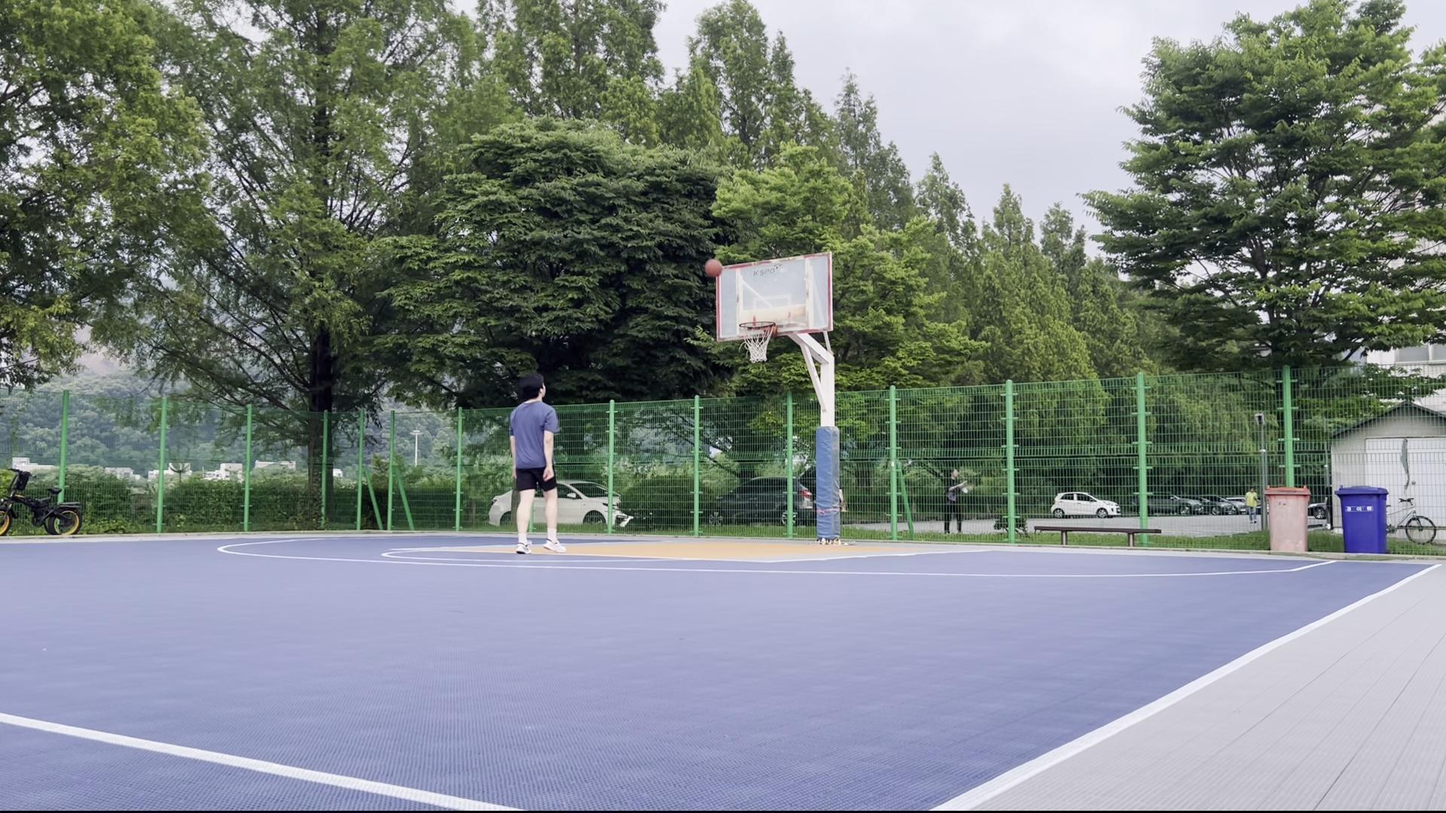ball: (703, 257, 724, 278)
human: (508, 372, 568, 556)
rim: (738, 321, 776, 364)
